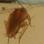cockroach: (6, 6, 28, 38)
